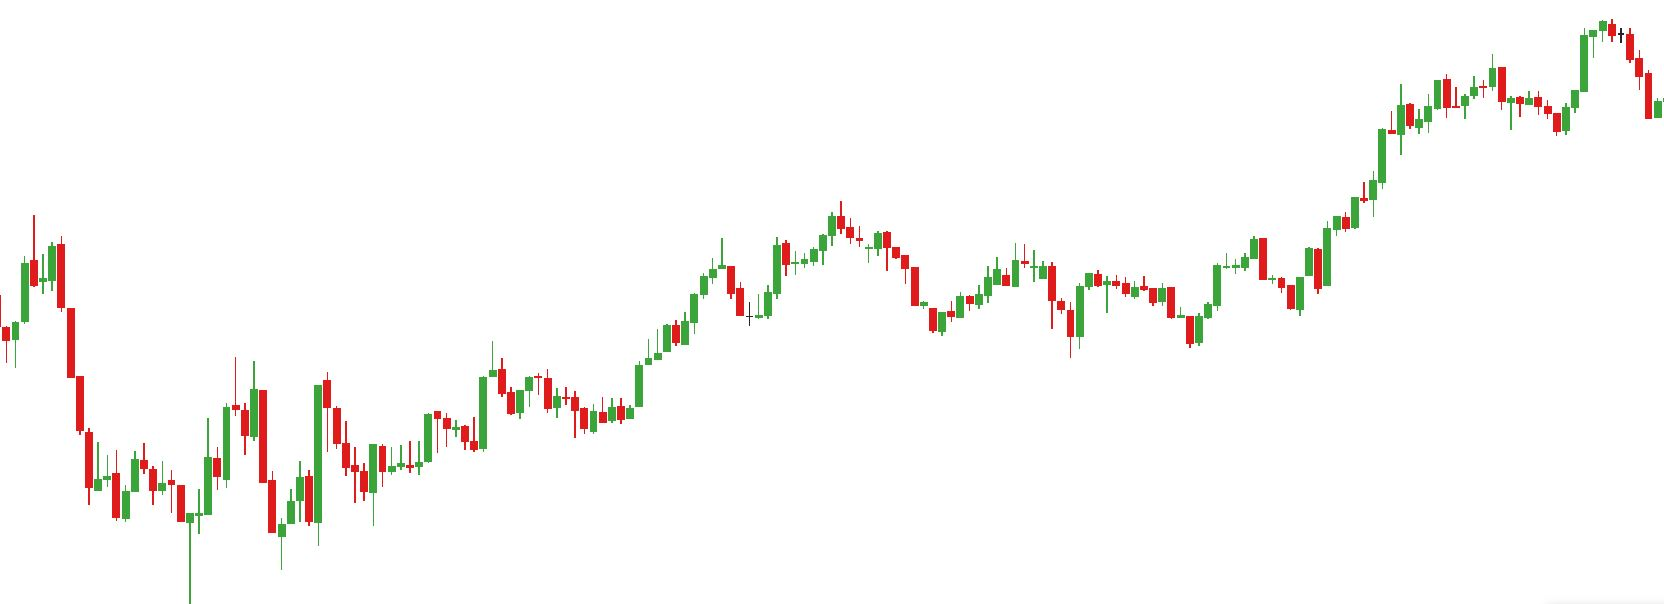buy: (929, 279, 1087, 362), (109, 463, 195, 604)
